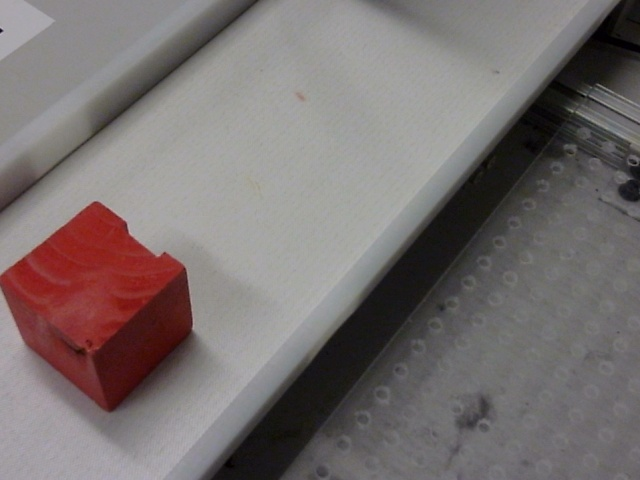RedBlock: (1, 201, 195, 412)
